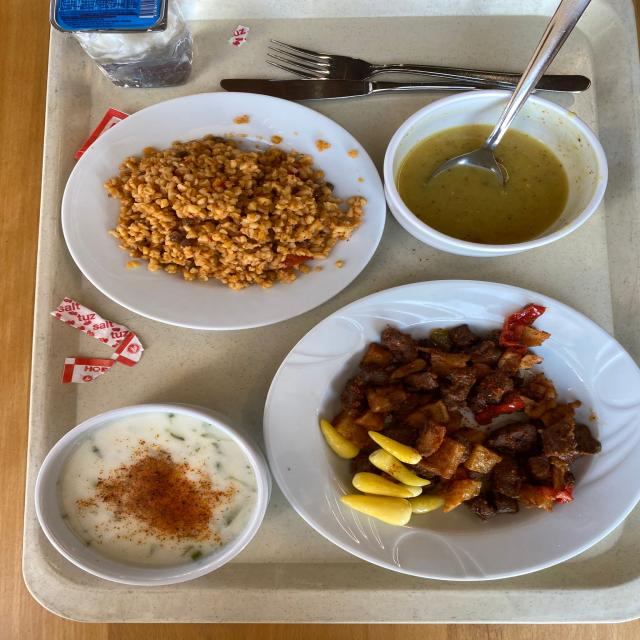ana_yemek: (281, 299, 602, 582), (60, 91, 380, 317)
corba: (26, 378, 275, 610), (376, 91, 576, 256)
